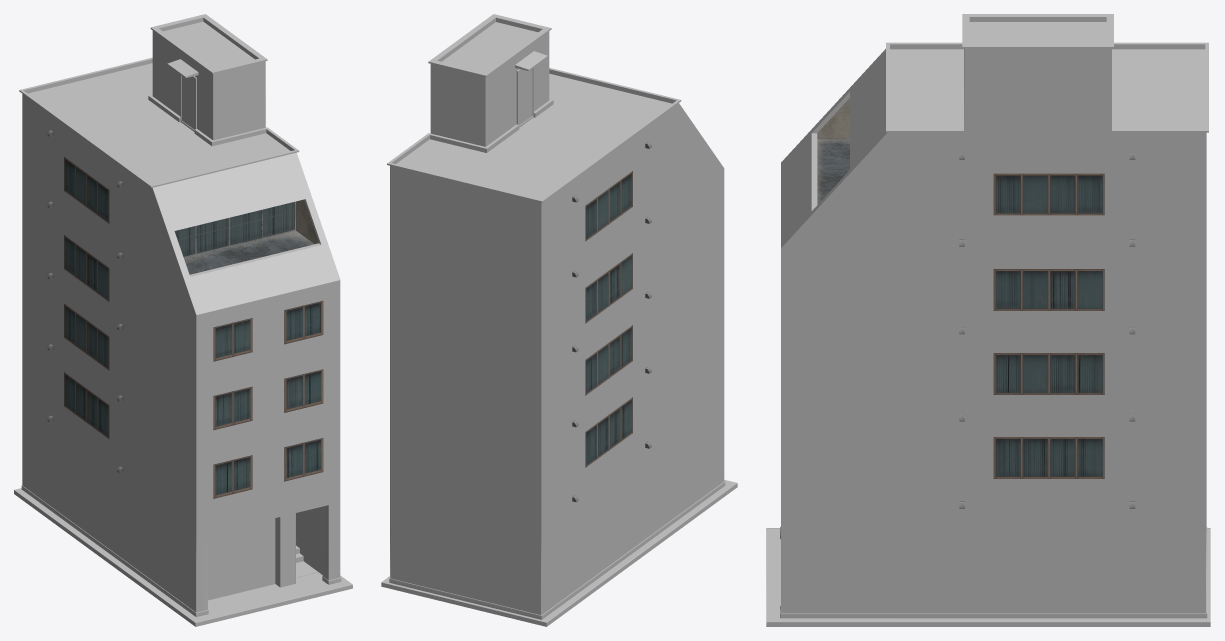
Rendered from BldB_low.fbx.
3 views of the same model, side by side, from view 1: azimuth 30°, elevation 25°; view 2: azimuth 150°, elevation 25°; view 3: azimuth 270°, elevation 25° (orthographic). The views are drawn at different scales.
Visible parts, largest first — view 1: BldB_low; view 2: BldB_low; view 3: BldB_low.
Part boxes in pixels (x1,y1,x2,y2): BldB_low: (14,14,352,626); BldB_low: (381,14,737,626); BldB_low: (766,14,1210,626).
Size of the model in its own units: 600 by 1720 by 1200.
